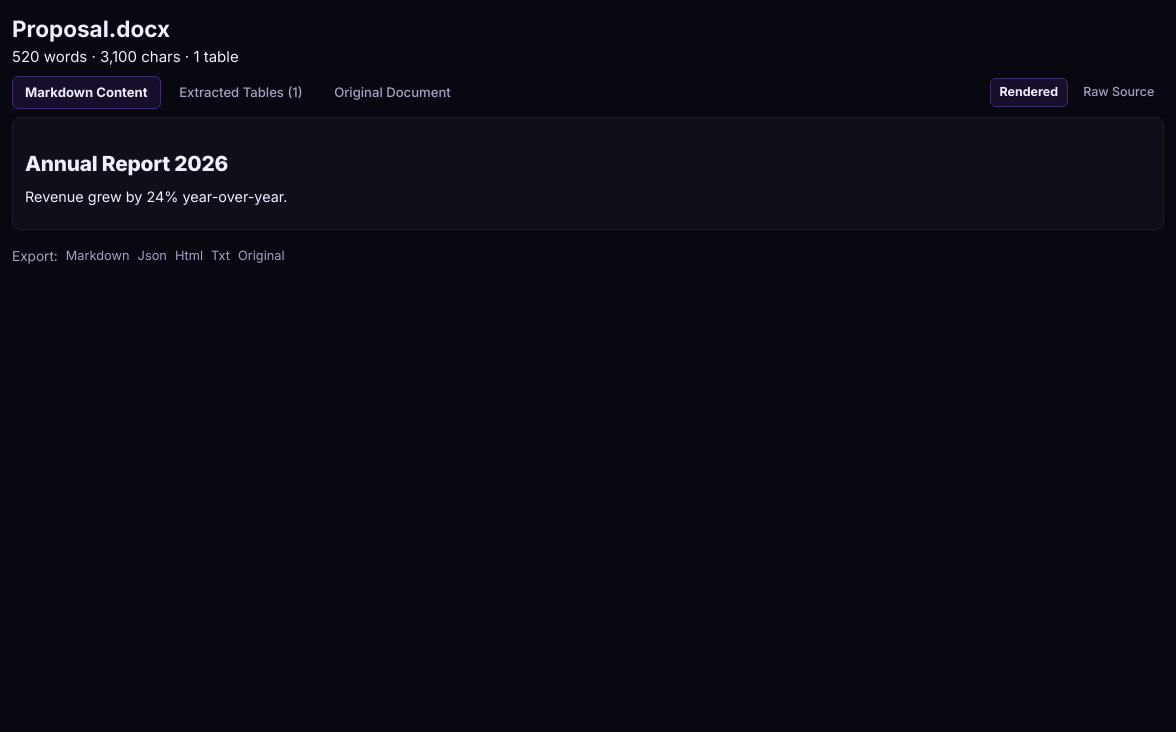
Scenario: DocumentPreview Accessibility and Interactions › renders office file fallback notice for .docx files
Click the tab "Original Document" at (392, 93), box [321,76,464,109]
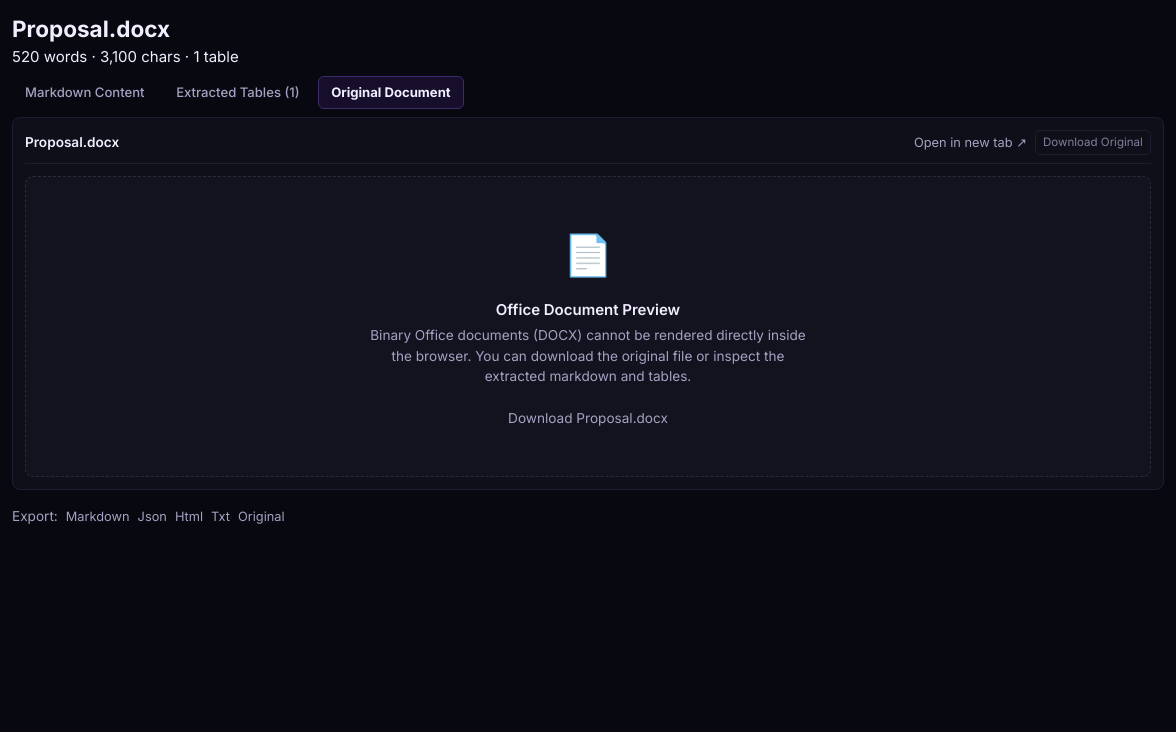
Check: the text "Office Document Preview" is shown, box [496,300,680,319]
Check: the text "Binary Office documents (DOCX) cannot be rendered directly" is shown, box [364,325,812,386]
